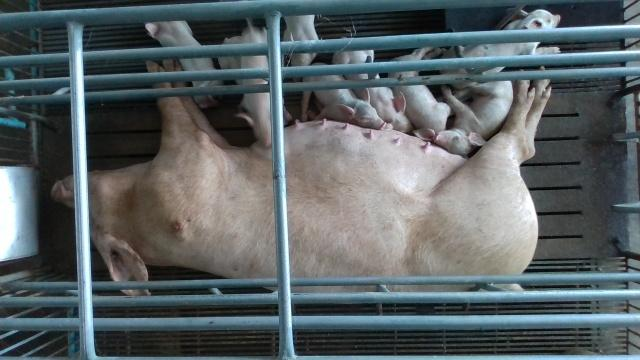piglet: (333, 36, 412, 133), (456, 6, 562, 78), (145, 22, 222, 106), (220, 27, 272, 149), (433, 81, 513, 160), (386, 44, 451, 140), (302, 62, 386, 131), (283, 13, 322, 82)
sow-sleep-lactate: (52, 58, 552, 298)
